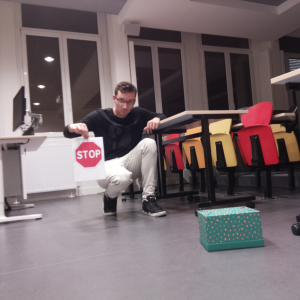small: (198, 206, 268, 253)
